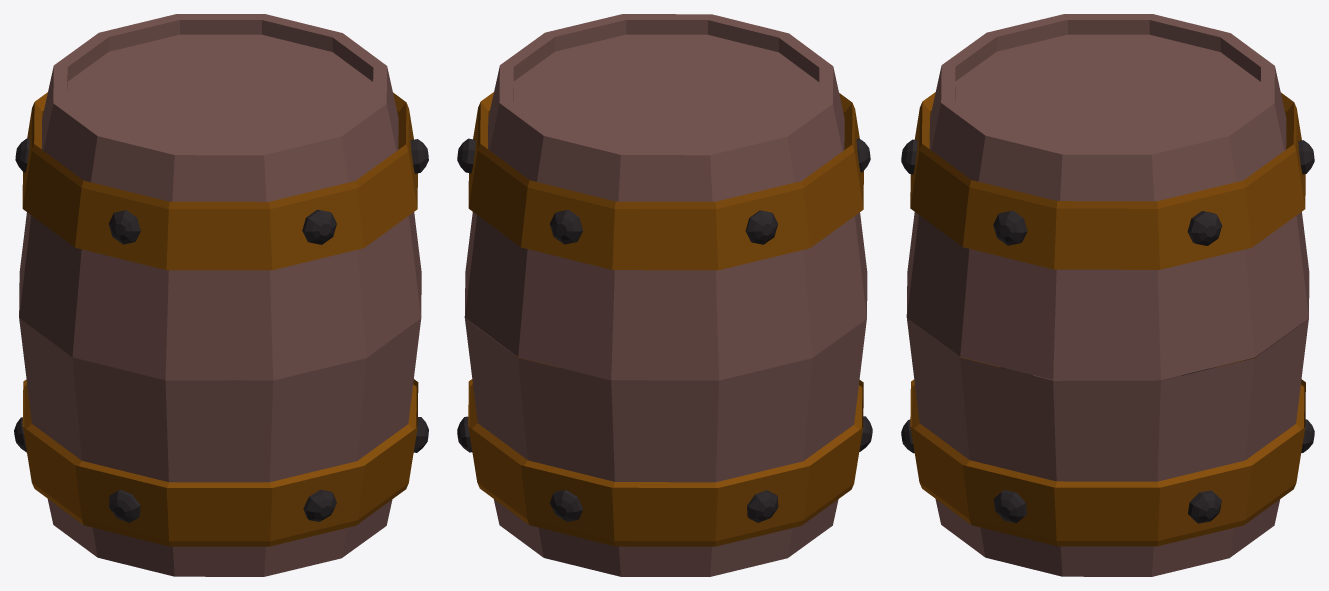
File: barrel.fbx
3 renders of one model, left to right at view 1: azimuth 30°, elevation 25°; view 2: azimuth 150°, elevation 25°; view 3: azimuth 270°, elevation 25°, orthographic.
Parts seen in each view (by area): view 1: Cylinder.001, Cylinder.002, Cylinder.006, Cylinder.010, Cylinder.012, Cylinder.004; view 2: Cylinder.001, Cylinder.002, Cylinder.005, Cylinder.008, Cylinder.011, Cylinder.014; view 3: Cylinder.001, Cylinder.002, Cylinder.007, Cylinder.009, Cylinder.013, Cylinder.015.
Part boxes in pixels (x1,y1,x2,y2): Cylinder.001: (19, 14, 421, 576); Cylinder.002: (22, 92, 418, 546); Cylinder.006: (108, 210, 140, 244); Cylinder.010: (303, 489, 336, 521); Cylinder.012: (109, 489, 140, 522); Cylinder.004: (302, 210, 330, 244); Cylinder.001: (464, 14, 867, 576); Cylinder.002: (468, 92, 863, 546); Cylinder.005: (550, 209, 582, 244); Cylinder.008: (745, 210, 777, 244); Cylinder.011: (550, 490, 582, 521); Cylinder.014: (747, 490, 778, 522); Cylinder.001: (906, 14, 1309, 576); Cylinder.002: (910, 92, 1305, 546); Cylinder.007: (1187, 211, 1222, 245); Cylinder.009: (993, 210, 1027, 245); Cylinder.013: (1188, 490, 1221, 523); Cylinder.015: (993, 490, 1026, 523).
Size of the model in its own units: 81.87 by 94.73 by 84.11.
